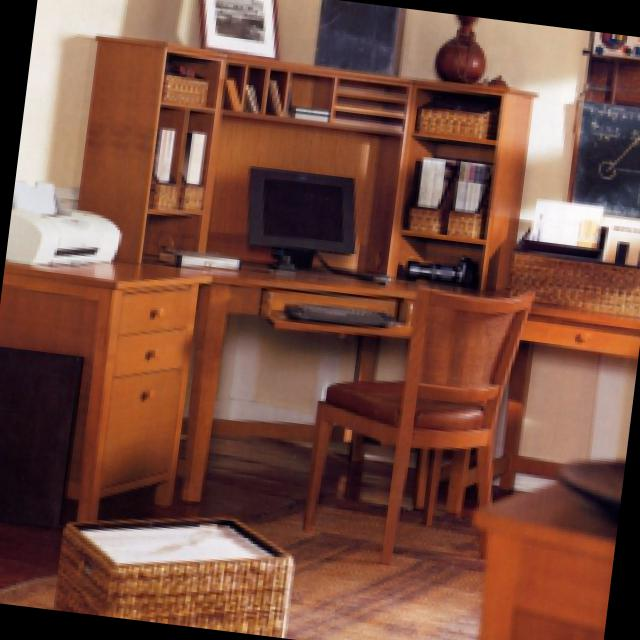2001: (312, 0, 396, 66)
basket crop: (53, 516, 289, 630), (411, 100, 492, 138), (161, 72, 204, 104), (145, 179, 176, 206), (181, 182, 198, 205)
blackboard: (565, 97, 640, 213)
book case: (156, 247, 235, 269), (177, 245, 237, 268), (224, 79, 238, 106)
bowl -X: (556, 455, 618, 515)
cabinet door: (0, 255, 213, 516), (499, 246, 640, 485)
cds: (288, 100, 325, 117)
chair -occluded-: (297, 284, 531, 560)
desk calendar: (164, 254, 491, 499)
keyboard crop: (278, 295, 391, 325)
magazines: (450, 158, 481, 208), (415, 154, 446, 203), (180, 127, 202, 179), (150, 124, 170, 176)
monitor crop: (247, 163, 349, 265)
paper cup with straws: (527, 195, 603, 240)
picture occluded: (199, 0, 275, 52)
portfolio: (0, 344, 84, 522)
printer: (5, 177, 119, 262)
rug -partially obscured-: (0, 485, 480, 640)
shelf crop: (577, 41, 640, 105)
shelves crop: (78, 31, 530, 289)
table -X: (470, 455, 621, 640)
vase -X: (429, 14, 484, 81)
